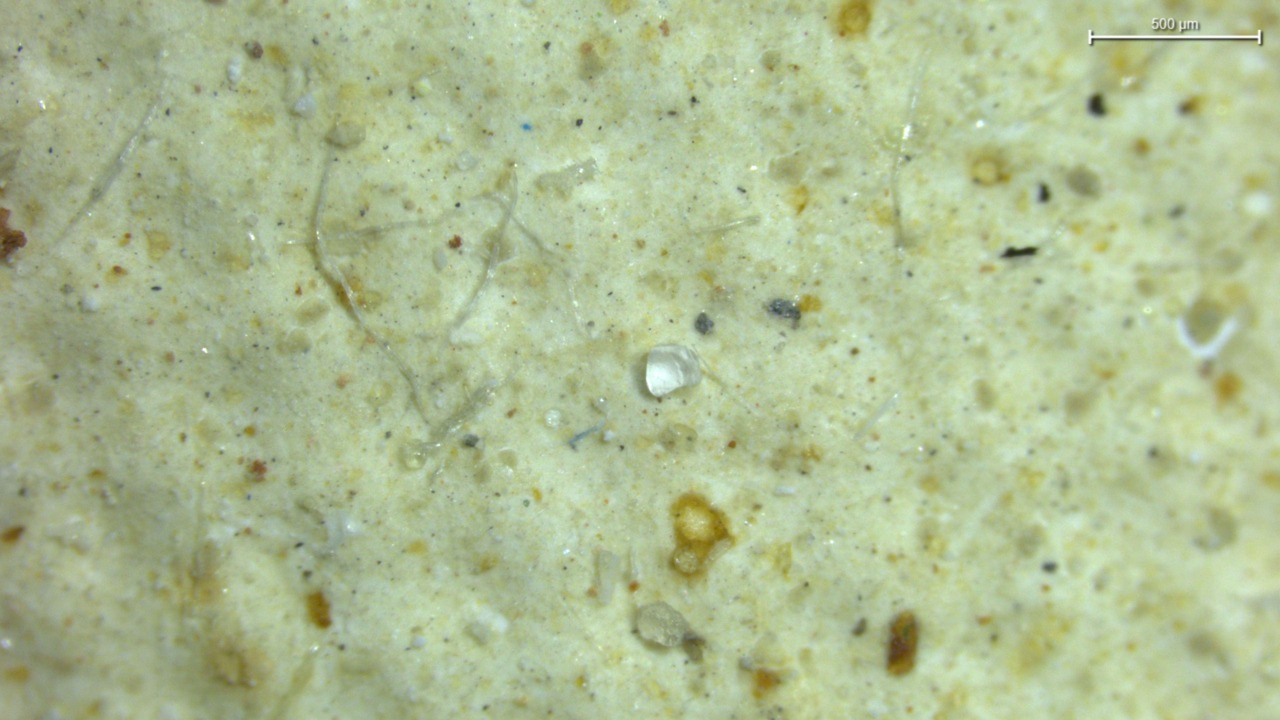microplastic_fragment: (645, 345, 701, 397), (636, 602, 690, 647), (327, 121, 365, 148)
